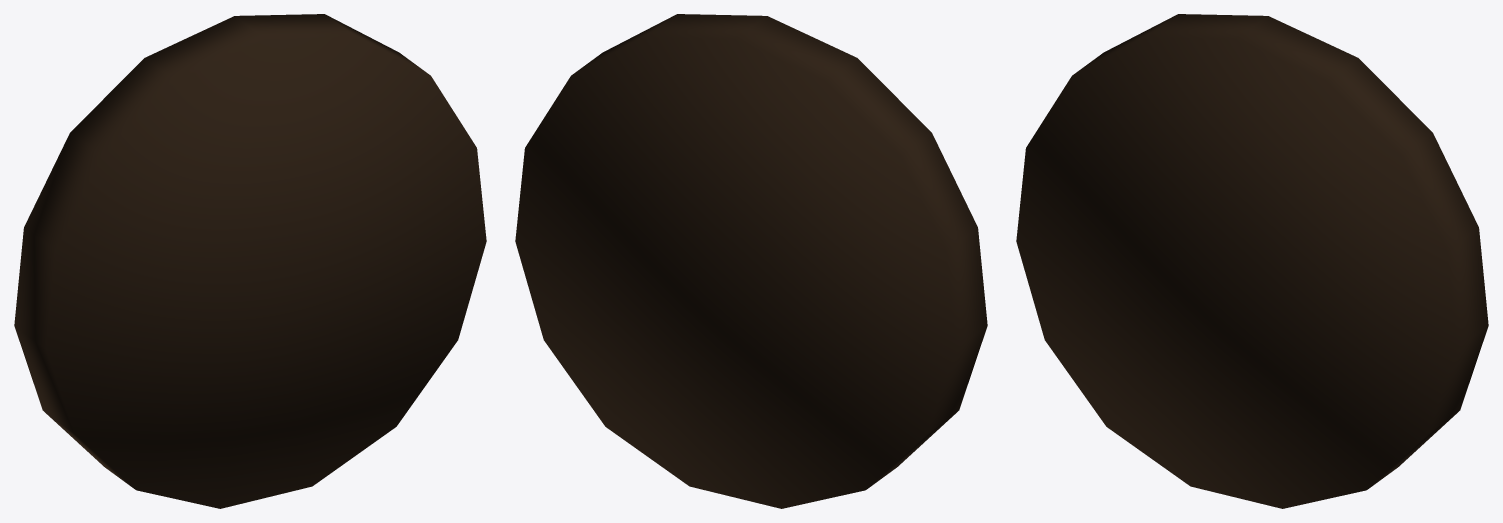
The model's file is disk.fbx.
The picture shows the model from 3 angles, left to right: view 1: azimuth 30°, elevation 25°; view 2: azimuth 150°, elevation 25°; view 3: azimuth 330°, elevation 25°; orthographic projection.
Visible parts, largest first — view 1: Cylinder; view 2: Cylinder; view 3: Cylinder.
Part boxes in pixels (x1=…): Cylinder: x1=14, y1=14, x2=486, y2=508; Cylinder: x1=515, y1=14, x2=987, y2=508; Cylinder: x1=1016, y1=14, x2=1488, y2=508.
Bounding box in the file's own units: 1.71 × 1.7 × 0.213.
